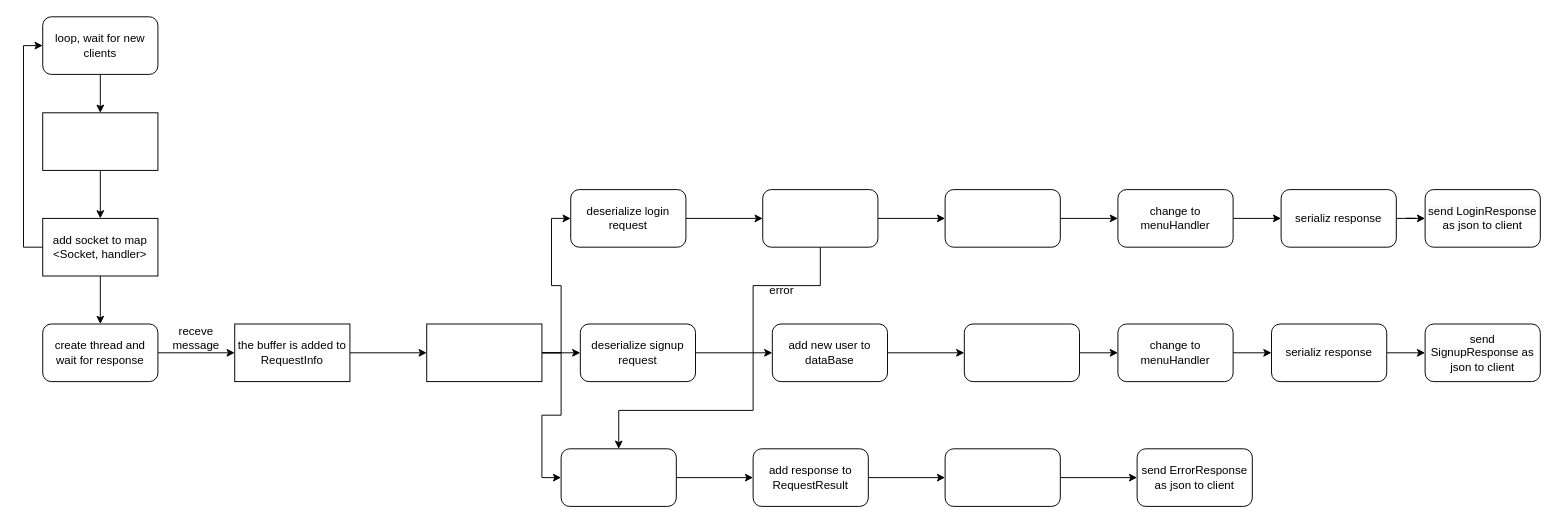
Image size: 1557x523. Some labels were removed from this diagram. Each missing label, with the centre of its shape:
add LoginResponse to RequestResponse: point (1002, 218)
add SignupResponse to RequestResponse: point (1021, 352)
check if user exists: point (820, 218)
HandleRequest(): point (484, 352)
kepp Login handler: point (1002, 477)
new client: point (100, 141)
Serialize ErrorResult: point (618, 477)
